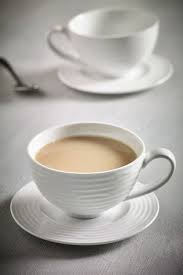cup: (26, 122, 177, 221), (44, 9, 163, 76)
